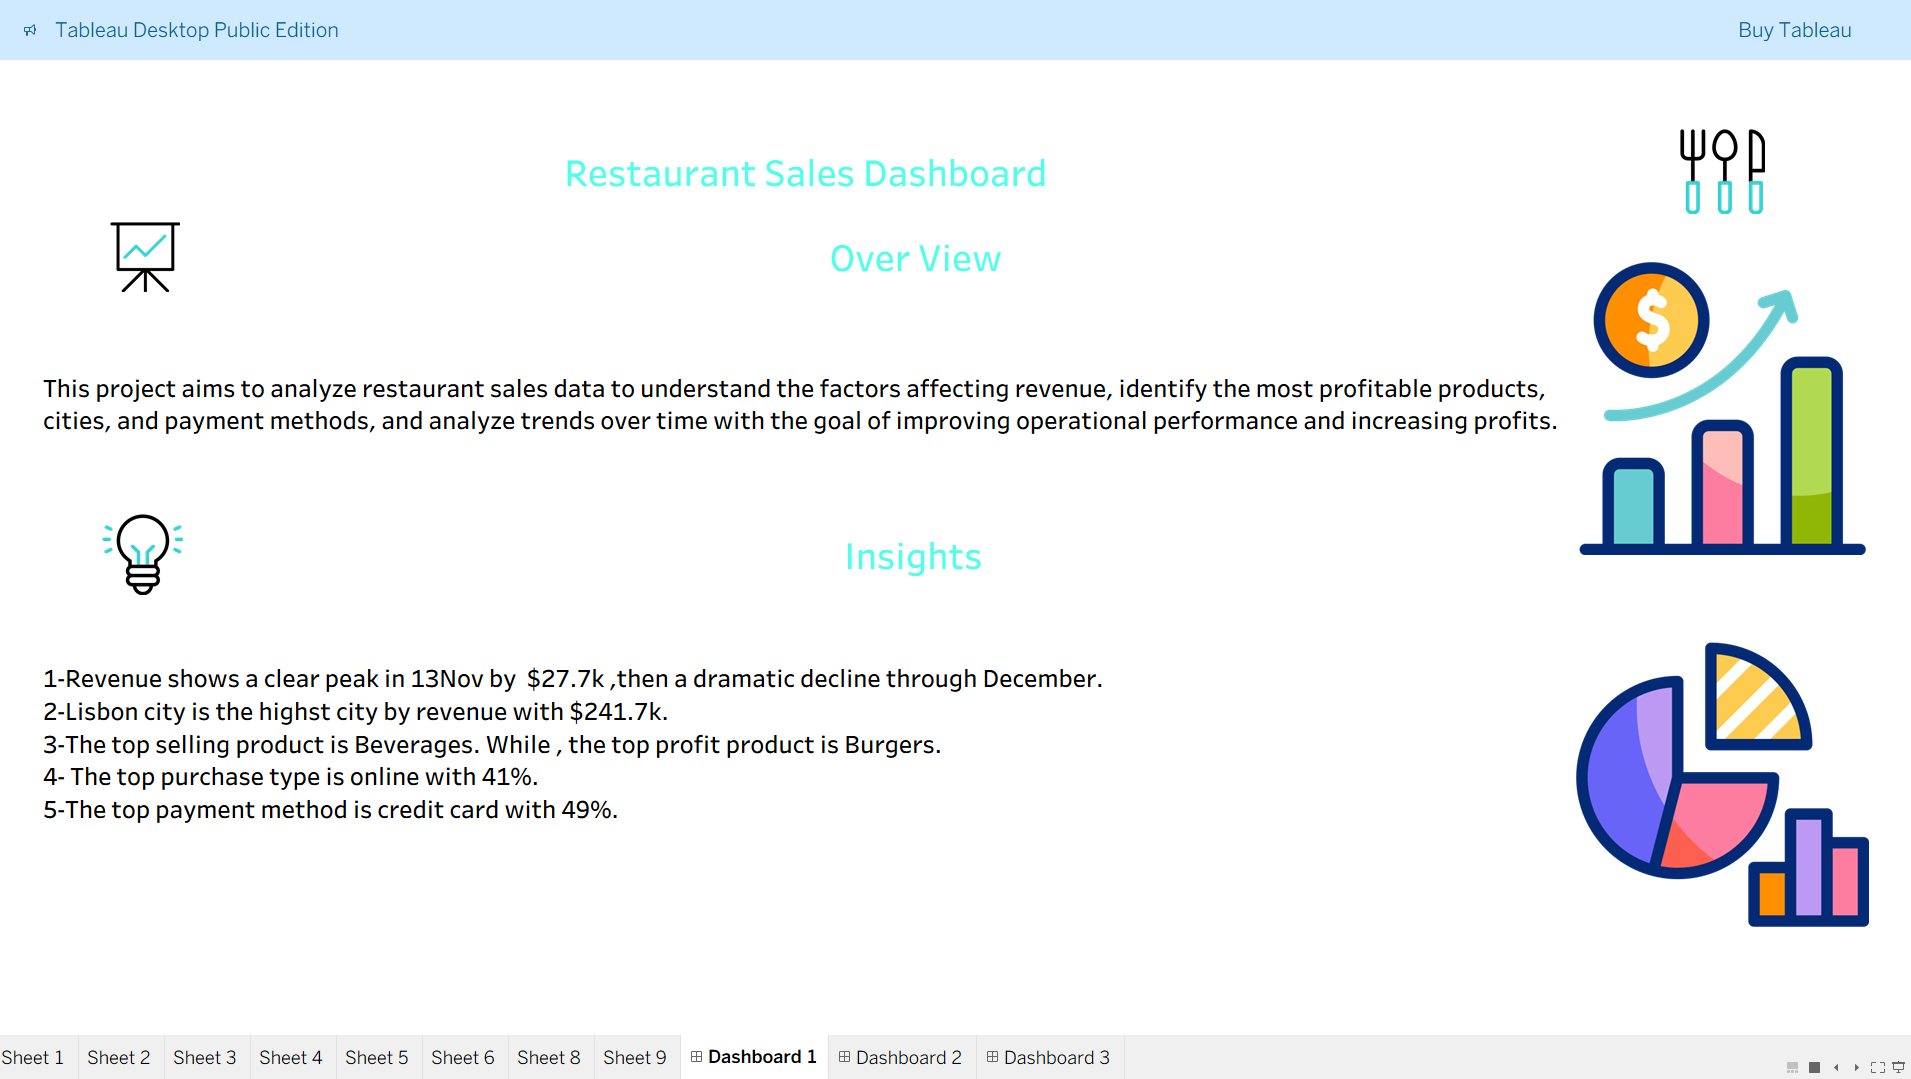

The dashboard page shown, as its layout file describes it:
{"tool":"tableau","page":{"name":"Dashboard 1","canvas":[1000,1000],"units":"permille","ordinal":0},"visuals":[{"type":"text","box":[4.3,9.3,832.9,108.4]},{"type":"image","param":"Image/cutlery.png","box":[837.2,9.3,158.5,108.4]},{"type":"image","param":"Image/presentation.png","box":[4.3,117.7,119.7,90.1]},{"type":"text","box":[124,117.7,713.2,90.1]},{"type":"dashboard-object","box":[837.2,117.7,158.5,443.6]},{"type":"text","box":[4.3,207.8,832.9,249.7]},{"type":"image","param":"Image/idea.png","box":[4.3,457.5,116.2,103.8]},{"type":"text","box":[120.5,457.5,716.7,103.8]},{"type":"text","box":[4.3,561.3,832.9,333.7]},{"type":"dashboard-object","box":[837.2,561.3,158.5,429.4]}]}

Visuals, with their boxes on the dashboard's canvas, which has no fixed pixel size, in thousandths of its width and height (x1, y1, x2, y2). These are canvas units, not pixel positions in the 1911x1079 screenshot, which may show the page scaled, cropped or inside an application window:
text: 4:9:837:118
image: 837:9:996:118
image: 4:118:124:208
text: 124:118:837:208
dashboard-object: 837:118:996:561
text: 4:208:837:458
image: 4:458:120:561
text: 120:458:837:561
text: 4:561:837:895
dashboard-object: 837:561:996:991
